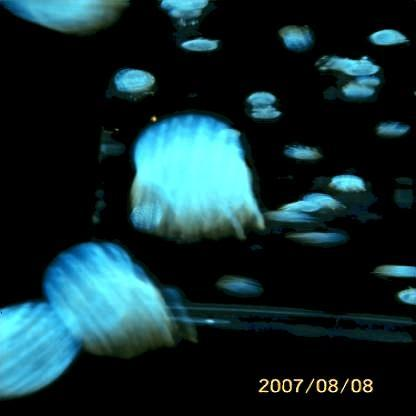LightHouse: (127, 118, 253, 237), (46, 247, 178, 359), (0, 305, 81, 399), (6, 2, 130, 34), (128, 201, 172, 237), (115, 68, 161, 100), (163, 1, 209, 25), (279, 24, 315, 50), (217, 275, 263, 295), (302, 191, 347, 211), (344, 79, 382, 101), (290, 232, 347, 246), (331, 175, 367, 195), (346, 55, 378, 77), (372, 29, 410, 47), (282, 142, 322, 158), (316, 54, 356, 70), (183, 37, 221, 53), (372, 123, 410, 139), (262, 213, 314, 223), (372, 266, 415, 278), (249, 106, 282, 120), (247, 93, 279, 106), (279, 201, 313, 213), (400, 288, 416, 306)
